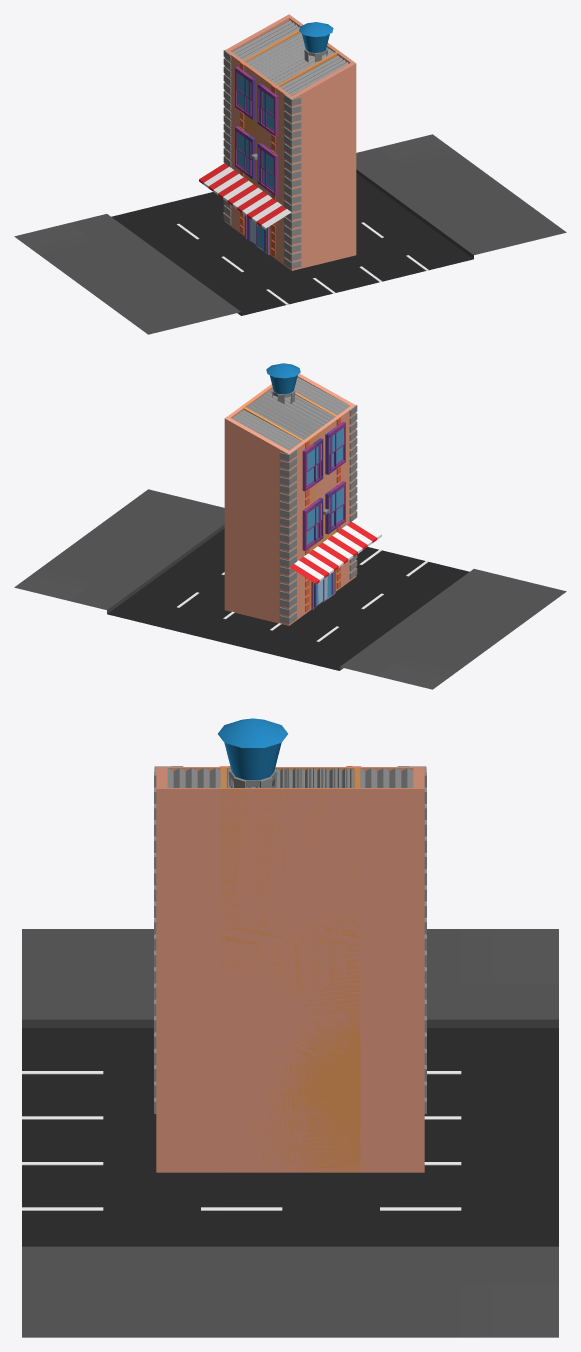
File: Assets__infinityrun (corrected).fbx
3 views of the same model, one above another, from view 1: azimuth 30°, elevation 25°; view 2: azimuth 150°, elevation 25°; view 3: azimuth 270°, elevation 25° (orthographic). The views are drawn at different scales.
Parts seen in each view (by area): view 1: 01_Road, 01_Building, 02_Building; view 2: 01_Road, 01_Building, 02_Building; view 3: 01_Road, 01_Building, 02_Building.
Boxes of the visible parts, x1=… form: 01_Road: x1=14, y1=134, x2=566, y2=334; 01_Building: x1=199, y1=14, x2=356, y2=270; 02_Building: x1=240, y1=22, x2=339, y2=258; 01_Road: x1=14, y1=489, x2=566, y2=689; 01_Building: x1=224, y1=373, x2=381, y2=625; 02_Building: x1=241, y1=363, x2=340, y2=611; 01_Road: x1=22, y1=929, x2=558, y2=1337; 01_Building: x1=154, y1=766, x2=426, y2=1172; 02_Building: x1=218, y1=718, x2=361, y2=1172.
Size of the model in its own units: 2250 by 1127 by 1250.
Materials: 1 (1 with a texture image).
